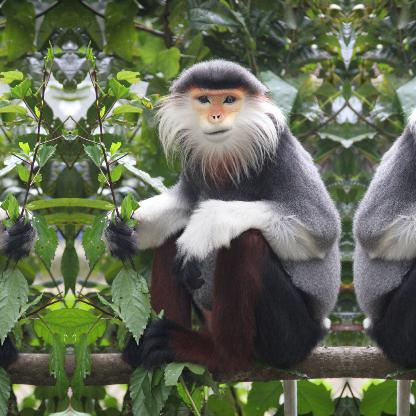Monkey: (104, 57, 341, 380), (350, 56, 415, 380)
